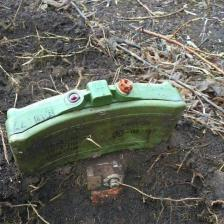MOH-50: (5, 76, 191, 172)
